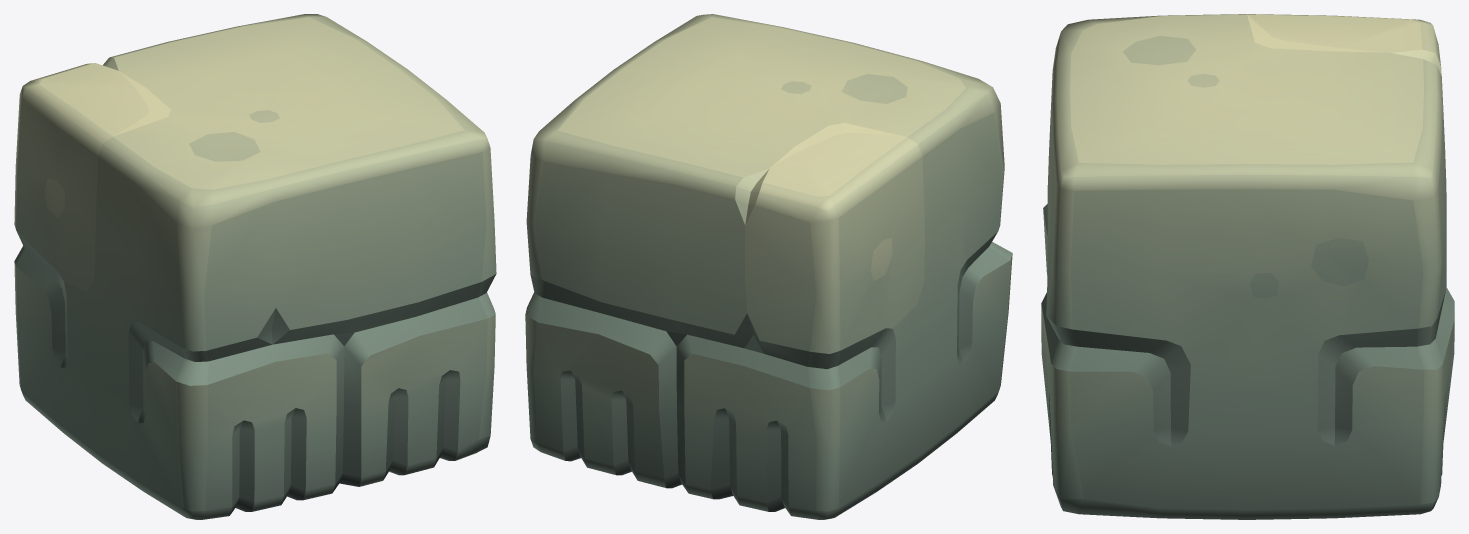
Rendered from block_stone_large1_LOD_group.fbx.
3 renders of one model, left to right at view 1: azimuth 30°, elevation 25°; view 2: azimuth 150°, elevation 25°; view 3: azimuth 270°, elevation 25°, orthographic. The views are drawn at different scales.
Visible parts, largest first — view 1: block_stone_large1_LOD0; view 2: block_stone_large1_LOD0; view 3: block_stone_large1_LOD0.
Boxes of the visible parts, box(x1,y1,x2,y2) form: block_stone_large1_LOD0: box(14, 14, 496, 519); block_stone_large1_LOD0: box(525, 14, 1012, 519); block_stone_large1_LOD0: box(1041, 14, 1454, 519).
Size of what is drawn, in the model's own units: 219 by 217 by 225.
1 material, 1 textured.
